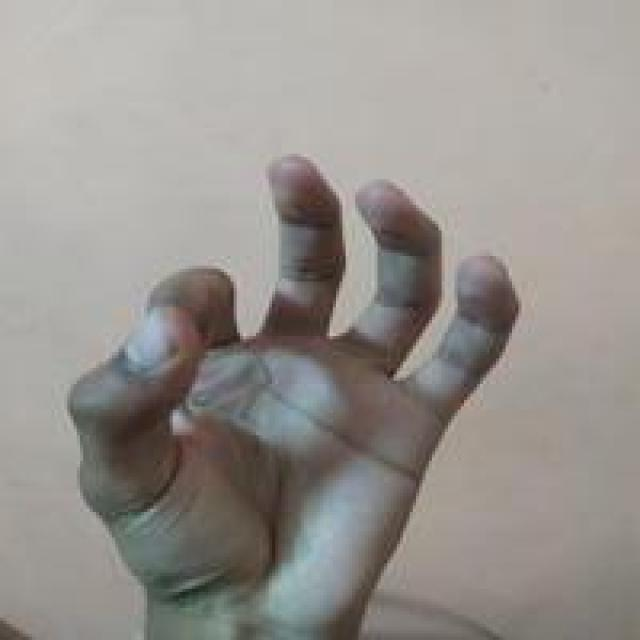F: (65, 149, 532, 638)
